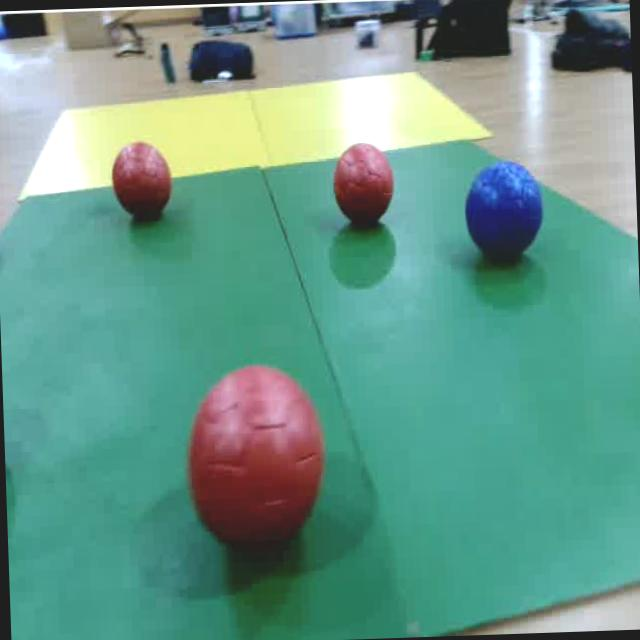blue_ball: (462, 158, 549, 266), (0, 20, 7, 40)
red_ball: (180, 358, 335, 560), (332, 138, 398, 235), (110, 138, 172, 224)
